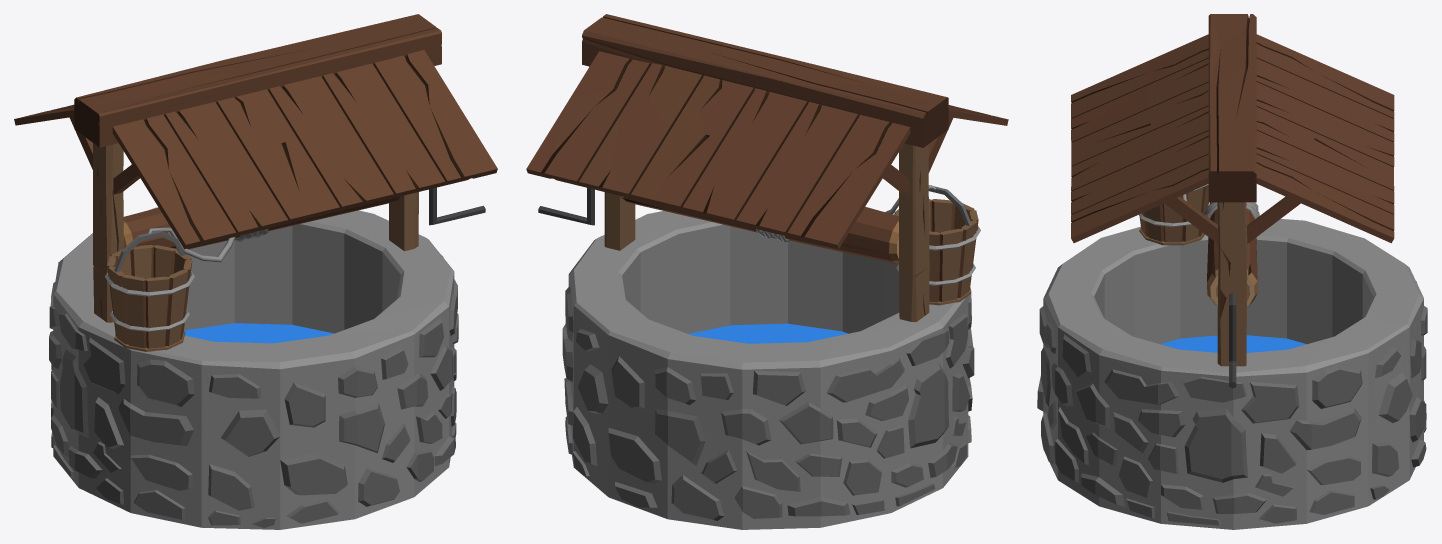
Rendered from well.gltf.
3 views of the same model, side by side, from view 1: azimuth 30°, elevation 25°; view 2: azimuth 150°, elevation 25°; view 3: azimuth 270°, elevation 25° (orthographic). The views are drawn at different scales.
Parts seen in each view (by area): view 1: Well; view 2: Well; view 3: Well.
Boxes of the visible parts, x1,y1,x2,y2 form: Well: (14, 14, 497, 529); Well: (526, 14, 1008, 529); Well: (1037, 14, 1427, 529).
Size of the model in its own units: 2.58 by 2.3 by 2.27.
Materials: 1 (1 with a texture image).
